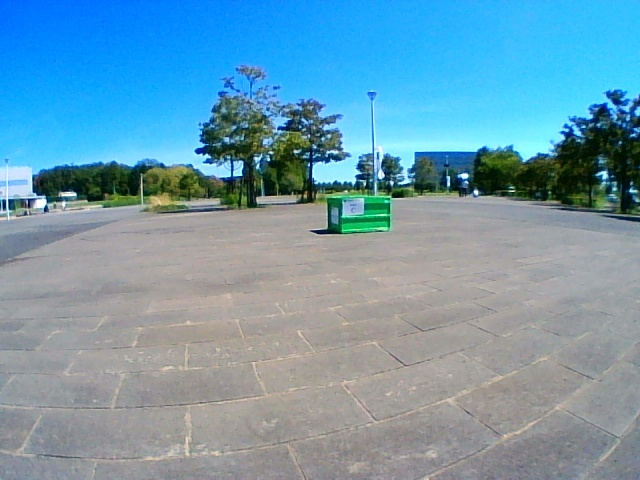green_box: (328, 195, 391, 234)
tag: (342, 200, 363, 216)
